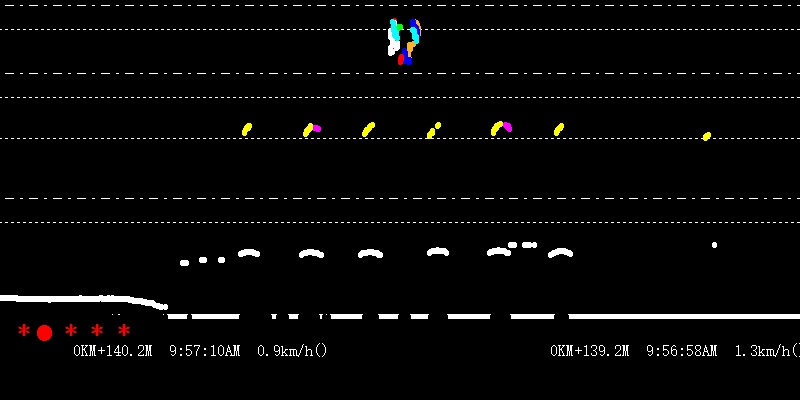J: (384, 3, 419, 65)
circle: (35, 324, 52, 344)
star: (88, 321, 104, 340), (116, 321, 132, 339), (63, 320, 76, 338), (16, 321, 29, 339)
